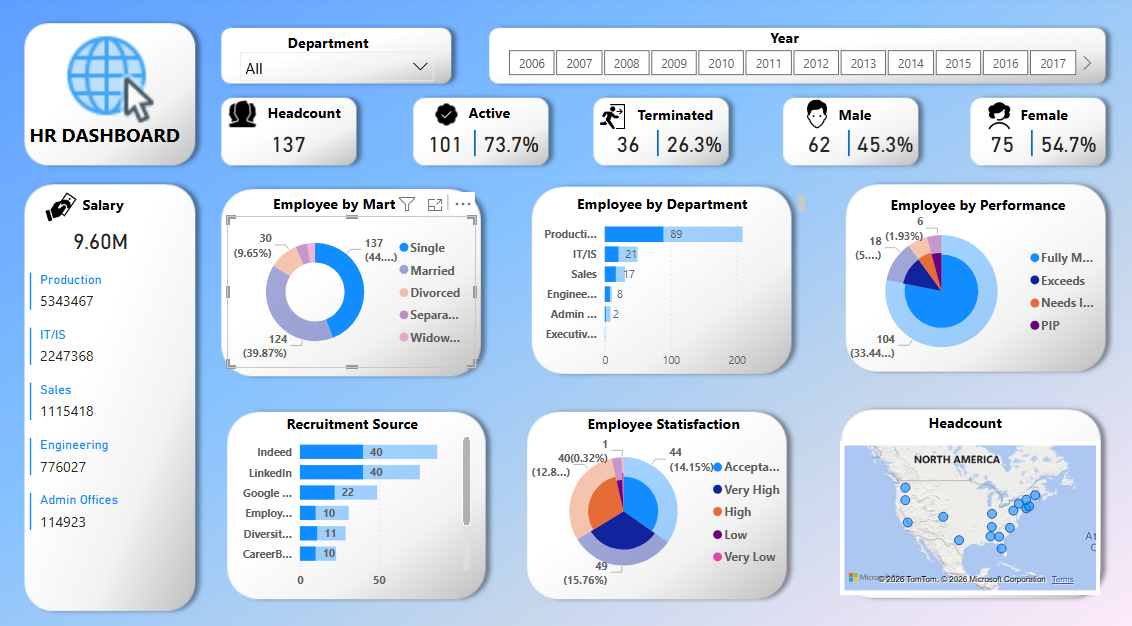

Layout of this report page (visuals, bound fields, positions):
{"tool":"powerbi","page":{"name":"Page 1","canvas":[1280,720],"ordinal":0},"visuals":[{"type":"textbox","box":[32.1,134.9,191.5,39.8],"z":0},{"type":"card","fields":{"Values":["New Measure.Active"]},"box":[454.9,140.1,101.5,48.8],"z":0,"group":"g1"},{"type":"card","fields":{"Values":["New Measure.Terminated"]},"box":[660.6,140.1,101.5,48.8],"z":0,"group":"g2"},{"type":"card","fields":{"Values":["New Measure.Male"]},"box":[875.2,140.1,101.5,48.8],"z":0,"group":"g4"},{"type":"card","fields":{"Values":["New Measure.Female"]},"box":[1080.8,140.1,101.5,48.8],"z":0,"group":"g3"},{"type":"textbox","box":[322.6,34.7,132.4,33.4],"z":1000},{"type":"card","fields":{"Values":["New Measure.Active %"]},"box":[529.4,140.1,101.5,48.8],"z":1000,"group":"g1"},{"type":"card","fields":{"Values":["New Measure.Terminated %"]},"box":[735.1,140.1,101.5,48.8],"z":1000,"group":"g2"},{"type":"card","fields":{"Values":["New Measure.Male %"]},"box":[949.7,140.1,101.5,48.8],"z":1000,"group":"g4"},{"type":"card","fields":{"Values":["New Measure.Female %"]},"box":[1155.3,140.1,101.5,48.8],"z":1000,"group":"g3"},{"type":"slicer","fields":{"Values":["HRData.Department"]},"box":[264.7,51.4,237.8,43.7],"z":2000},{"type":"shape","box":[526.9,149.1,24.4,29.6],"z":2000,"group":"g1"},{"type":"shape","box":[732.6,149.1,24.4,29.6],"z":2000,"group":"g2"},{"type":"shape","box":[947.2,149.1,24.4,29.6],"z":2000,"group":"g4"},{"type":"shape","box":[1152.8,149.1,24.4,29.6],"z":2000,"group":"g3"},{"type":"slicer","fields":{"Values":["HRData.Hiring year"]},"box":[551.3,52.7,687.6,42.4],"z":3000},{"type":"textbox","box":[866.2,29.6,57.8,38.6],"z":4000},{"type":"textbox","box":[307.1,217.2,206.9,29.6],"z":5000},{"type":"textbox","box":[1001.1,217.2,232.6,38.6],"z":6000},{"type":"textbox","box":[649,217.2,266,29.6],"z":7000},{"type":"textbox","box":[943.3,115.7,57.8,38.6],"z":8000},{"type":"textbox","box":[526.9,113.1,83.5,33.4],"z":9000},{"type":"textbox","box":[717.1,115.7,116.9,33.4],"z":10000},{"type":"textbox","box":[1147.6,115.7,86.1,33.4],"z":11000},{"type":"textbox","box":[300.7,113.1,110.5,38.6],"z":12000},{"type":"card","fields":{"Values":["New Measure.Headcount"]},"box":[277.6,140.1,101.5,48.8],"z":13000},{"type":"group","id":"g1","title":"Group 1","box":[454.9,140.1,176.1,48.8],"z":14000},{"type":"group","id":"g2","title":"Group 1","box":[660.6,140.1,176.1,48.8],"z":15000},{"type":"group","id":"g3","title":"Group 1","box":[1080.8,140.1,176.1,48.8],"z":16000},{"type":"group","id":"g4","title":"Group 1","box":[875.2,140.1,176.1,48.8],"z":17000},{"type":"donutChart","fields":{"Y":["New Measure.Headcount"],"Category":["HRData.MaritalStatus"]},"box":[259.6,246.7,280.2,170.9],"z":18000},{"type":"clusteredBarChart","fields":{"Y":["CountNonNull(HRData.EmployeeID)"],"Category":["HRData.Department"]},"box":[600.2,236.5,287.9,190.2],"z":19000},{"type":"pieChart","fields":{"Y":["New Measure.Headcount"],"Category":["HRData.PerformanceScore"]},"box":[960,226.2,293,209.5],"z":20000},{"type":"clusteredBarChart","fields":{"Category":["HRData.RecruitmentSource"],"Y":["New Measure.Headcount"]},"box":[259,481,279.6,193.2],"z":21000},{"type":"textbox","box":[660.6,463.2,245.3,37],"z":22000},{"type":"textbox","box":[322.1,463.2,178.2,38.4],"z":23000},{"type":"textbox","box":[1043.5,462.7,125.9,39.8],"z":24000},{"type":"pieChart","fields":{"Y":["New Measure.Headcount"],"Category":["HRData.statisfaction status"]},"box":[600.3,482.4,297.4,191.9],"z":25000},{"type":"map","fields":{"Category":["HRData.State"]},"box":[949.7,499.9,293,173.5],"z":26000},{"type":"textbox","box":[92.5,217.2,110.5,38.6],"z":27000},{"type":"card","fields":{"Values":["New Measure.Salary"]},"box":[50.1,244.2,133.7,60.4],"z":28000},{"type":"multiRowCard","fields":{"Values":["Sum(HRData.Salary)","HRData.Department"]},"box":[32.1,304.6,191.5,415.1],"z":29000},{"type":"image","box":[488.4,113.1,37.3,37.3],"z":30000},{"type":"image","box":[254.5,106.7,46.3,50.1],"z":31000},{"type":"image","box":[670.8,113.1,46.3,42.4],"z":32000},{"type":"image","box":[1105.2,104.1,47.6,56.5],"z":33000},{"type":"image","box":[900.9,109.2,45,45],"z":34000},{"type":"image","box":[66.8,30.8,116.9,115.7],"z":35000},{"type":"image","box":[50.1,209.5,45,52.7],"z":35001}]}

Visuals, with their boxes in screenshot pixels (x1, y1, x2, y2), scaled from the page's 1280x720 canvas onto the 1132x626 screenshot:
textbox: {"left": 28, "top": 117, "right": 198, "bottom": 152}
card - New Measure.Active: {"left": 402, "top": 122, "right": 492, "bottom": 164}
card - New Measure.Terminated: {"left": 584, "top": 122, "right": 674, "bottom": 164}
card - New Measure.Male: {"left": 774, "top": 122, "right": 864, "bottom": 164}
card - New Measure.Female: {"left": 956, "top": 122, "right": 1046, "bottom": 164}
textbox: {"left": 285, "top": 30, "right": 402, "bottom": 59}
card - New Measure.Active %: {"left": 468, "top": 122, "right": 558, "bottom": 164}
card - New Measure.Terminated %: {"left": 650, "top": 122, "right": 740, "bottom": 164}
card - New Measure.Male %: {"left": 840, "top": 122, "right": 930, "bottom": 164}
card - New Measure.Female %: {"left": 1022, "top": 122, "right": 1111, "bottom": 164}
slicer - HRData.Department: {"left": 234, "top": 45, "right": 444, "bottom": 83}
shape: {"left": 466, "top": 130, "right": 488, "bottom": 155}
shape: {"left": 648, "top": 130, "right": 669, "bottom": 155}
shape: {"left": 838, "top": 130, "right": 859, "bottom": 155}
shape: {"left": 1020, "top": 130, "right": 1041, "bottom": 155}
slicer - HRData.Hiring year: {"left": 488, "top": 46, "right": 1096, "bottom": 83}
textbox: {"left": 766, "top": 26, "right": 817, "bottom": 59}
textbox: {"left": 272, "top": 189, "right": 455, "bottom": 215}
textbox: {"left": 885, "top": 189, "right": 1091, "bottom": 222}
textbox: {"left": 574, "top": 189, "right": 809, "bottom": 215}
textbox: {"left": 834, "top": 101, "right": 885, "bottom": 134}
textbox: {"left": 466, "top": 98, "right": 540, "bottom": 127}
textbox: {"left": 634, "top": 101, "right": 738, "bottom": 130}
textbox: {"left": 1015, "top": 101, "right": 1091, "bottom": 130}
textbox: {"left": 266, "top": 98, "right": 364, "bottom": 132}
card - New Measure.Headcount: {"left": 246, "top": 122, "right": 335, "bottom": 164}
"Group 1" group: {"left": 402, "top": 122, "right": 558, "bottom": 164}
"Group 1" group: {"left": 584, "top": 122, "right": 740, "bottom": 164}
"Group 1" group: {"left": 956, "top": 122, "right": 1112, "bottom": 164}
"Group 1" group: {"left": 774, "top": 122, "right": 930, "bottom": 164}
donutChart - New Measure.Headcount x HRData.MaritalStatus: {"left": 230, "top": 214, "right": 477, "bottom": 363}
clusteredBarChart - CountNonNull(HRData.EmployeeID) x HRData.Department: {"left": 531, "top": 206, "right": 785, "bottom": 371}
pieChart - New Measure.Headcount x HRData.PerformanceScore: {"left": 849, "top": 197, "right": 1108, "bottom": 379}
clusteredBarChart - HRData.RecruitmentSource x New Measure.Headcount: {"left": 229, "top": 418, "right": 476, "bottom": 586}
textbox: {"left": 584, "top": 403, "right": 801, "bottom": 435}
textbox: {"left": 285, "top": 403, "right": 442, "bottom": 436}
textbox: {"left": 923, "top": 402, "right": 1034, "bottom": 437}
pieChart - New Measure.Headcount x HRData.statisfaction status: {"left": 531, "top": 419, "right": 794, "bottom": 586}
map - HRData.State: {"left": 840, "top": 435, "right": 1099, "bottom": 585}
textbox: {"left": 82, "top": 189, "right": 180, "bottom": 222}
card - New Measure.Salary: {"left": 44, "top": 212, "right": 163, "bottom": 265}
multiRowCard - Sum(HRData.Salary) x HRData.Department: {"left": 28, "top": 265, "right": 198, "bottom": 625}
image: {"left": 432, "top": 98, "right": 465, "bottom": 131}
image: {"left": 225, "top": 93, "right": 266, "bottom": 136}
image: {"left": 593, "top": 98, "right": 634, "bottom": 135}
image: {"left": 977, "top": 91, "right": 1020, "bottom": 140}
image: {"left": 797, "top": 95, "right": 837, "bottom": 134}
image: {"left": 59, "top": 27, "right": 162, "bottom": 127}
image: {"left": 44, "top": 182, "right": 84, "bottom": 228}
